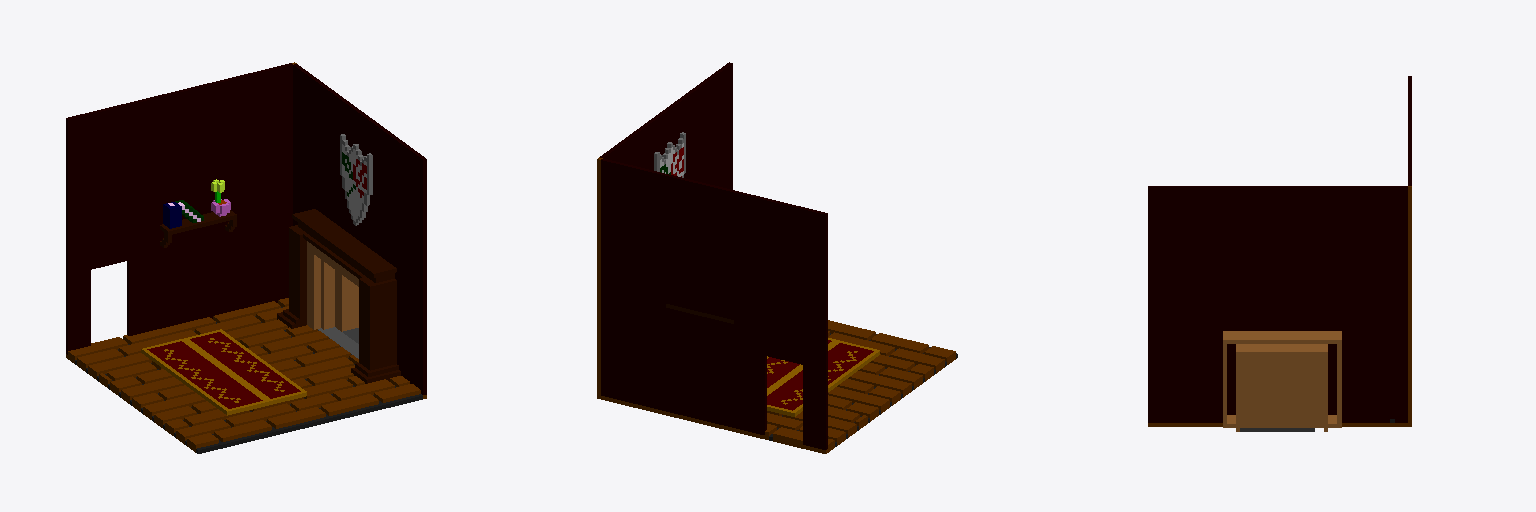
3 renders of one model, left to right at view 1: azimuth 30°, elevation 25°; view 2: azimuth 150°, elevation 25°; view 3: azimuth 270°, elevation 25°, orthographic.
Parts seen in each view (by area): view 1: testroom; view 2: testroom; view 3: testroom.
Boxes of the visible parts, <box> form: testroom: <box>66,62,426,453</box>; testroom: <box>597,62,957,453</box>; testroom: <box>1148,76,1411,431</box>.
Size of the model in its own units: 65 by 60 by 60.
Materials: 1 (1 with a texture image).